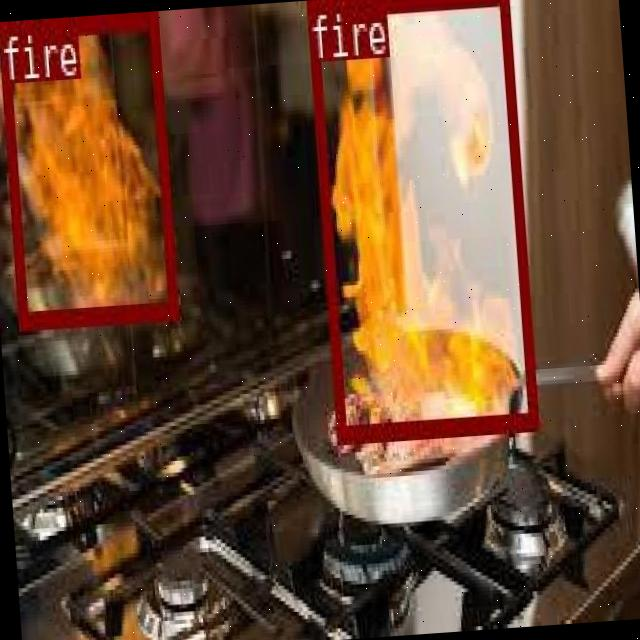fire: (304, 0, 537, 441), (0, 11, 176, 327)
